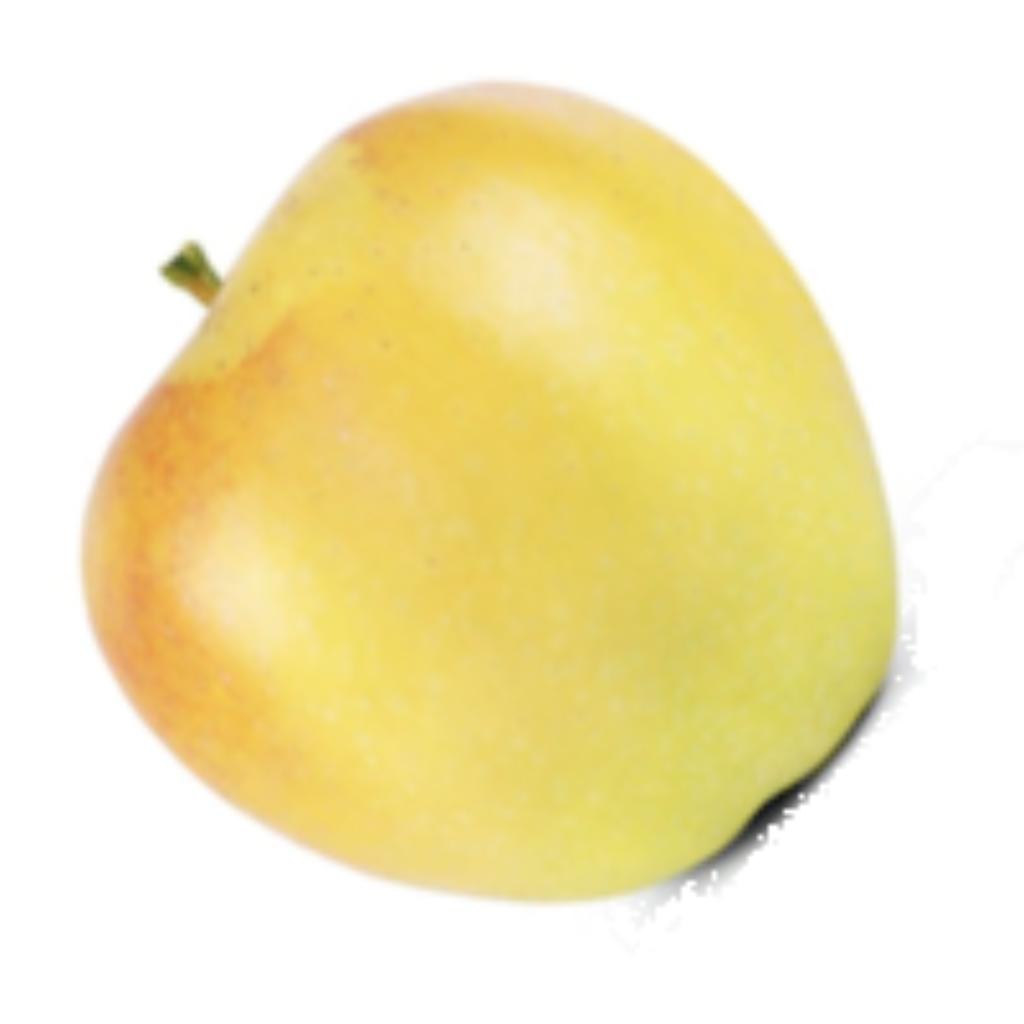apple: (72, 72, 927, 932)
